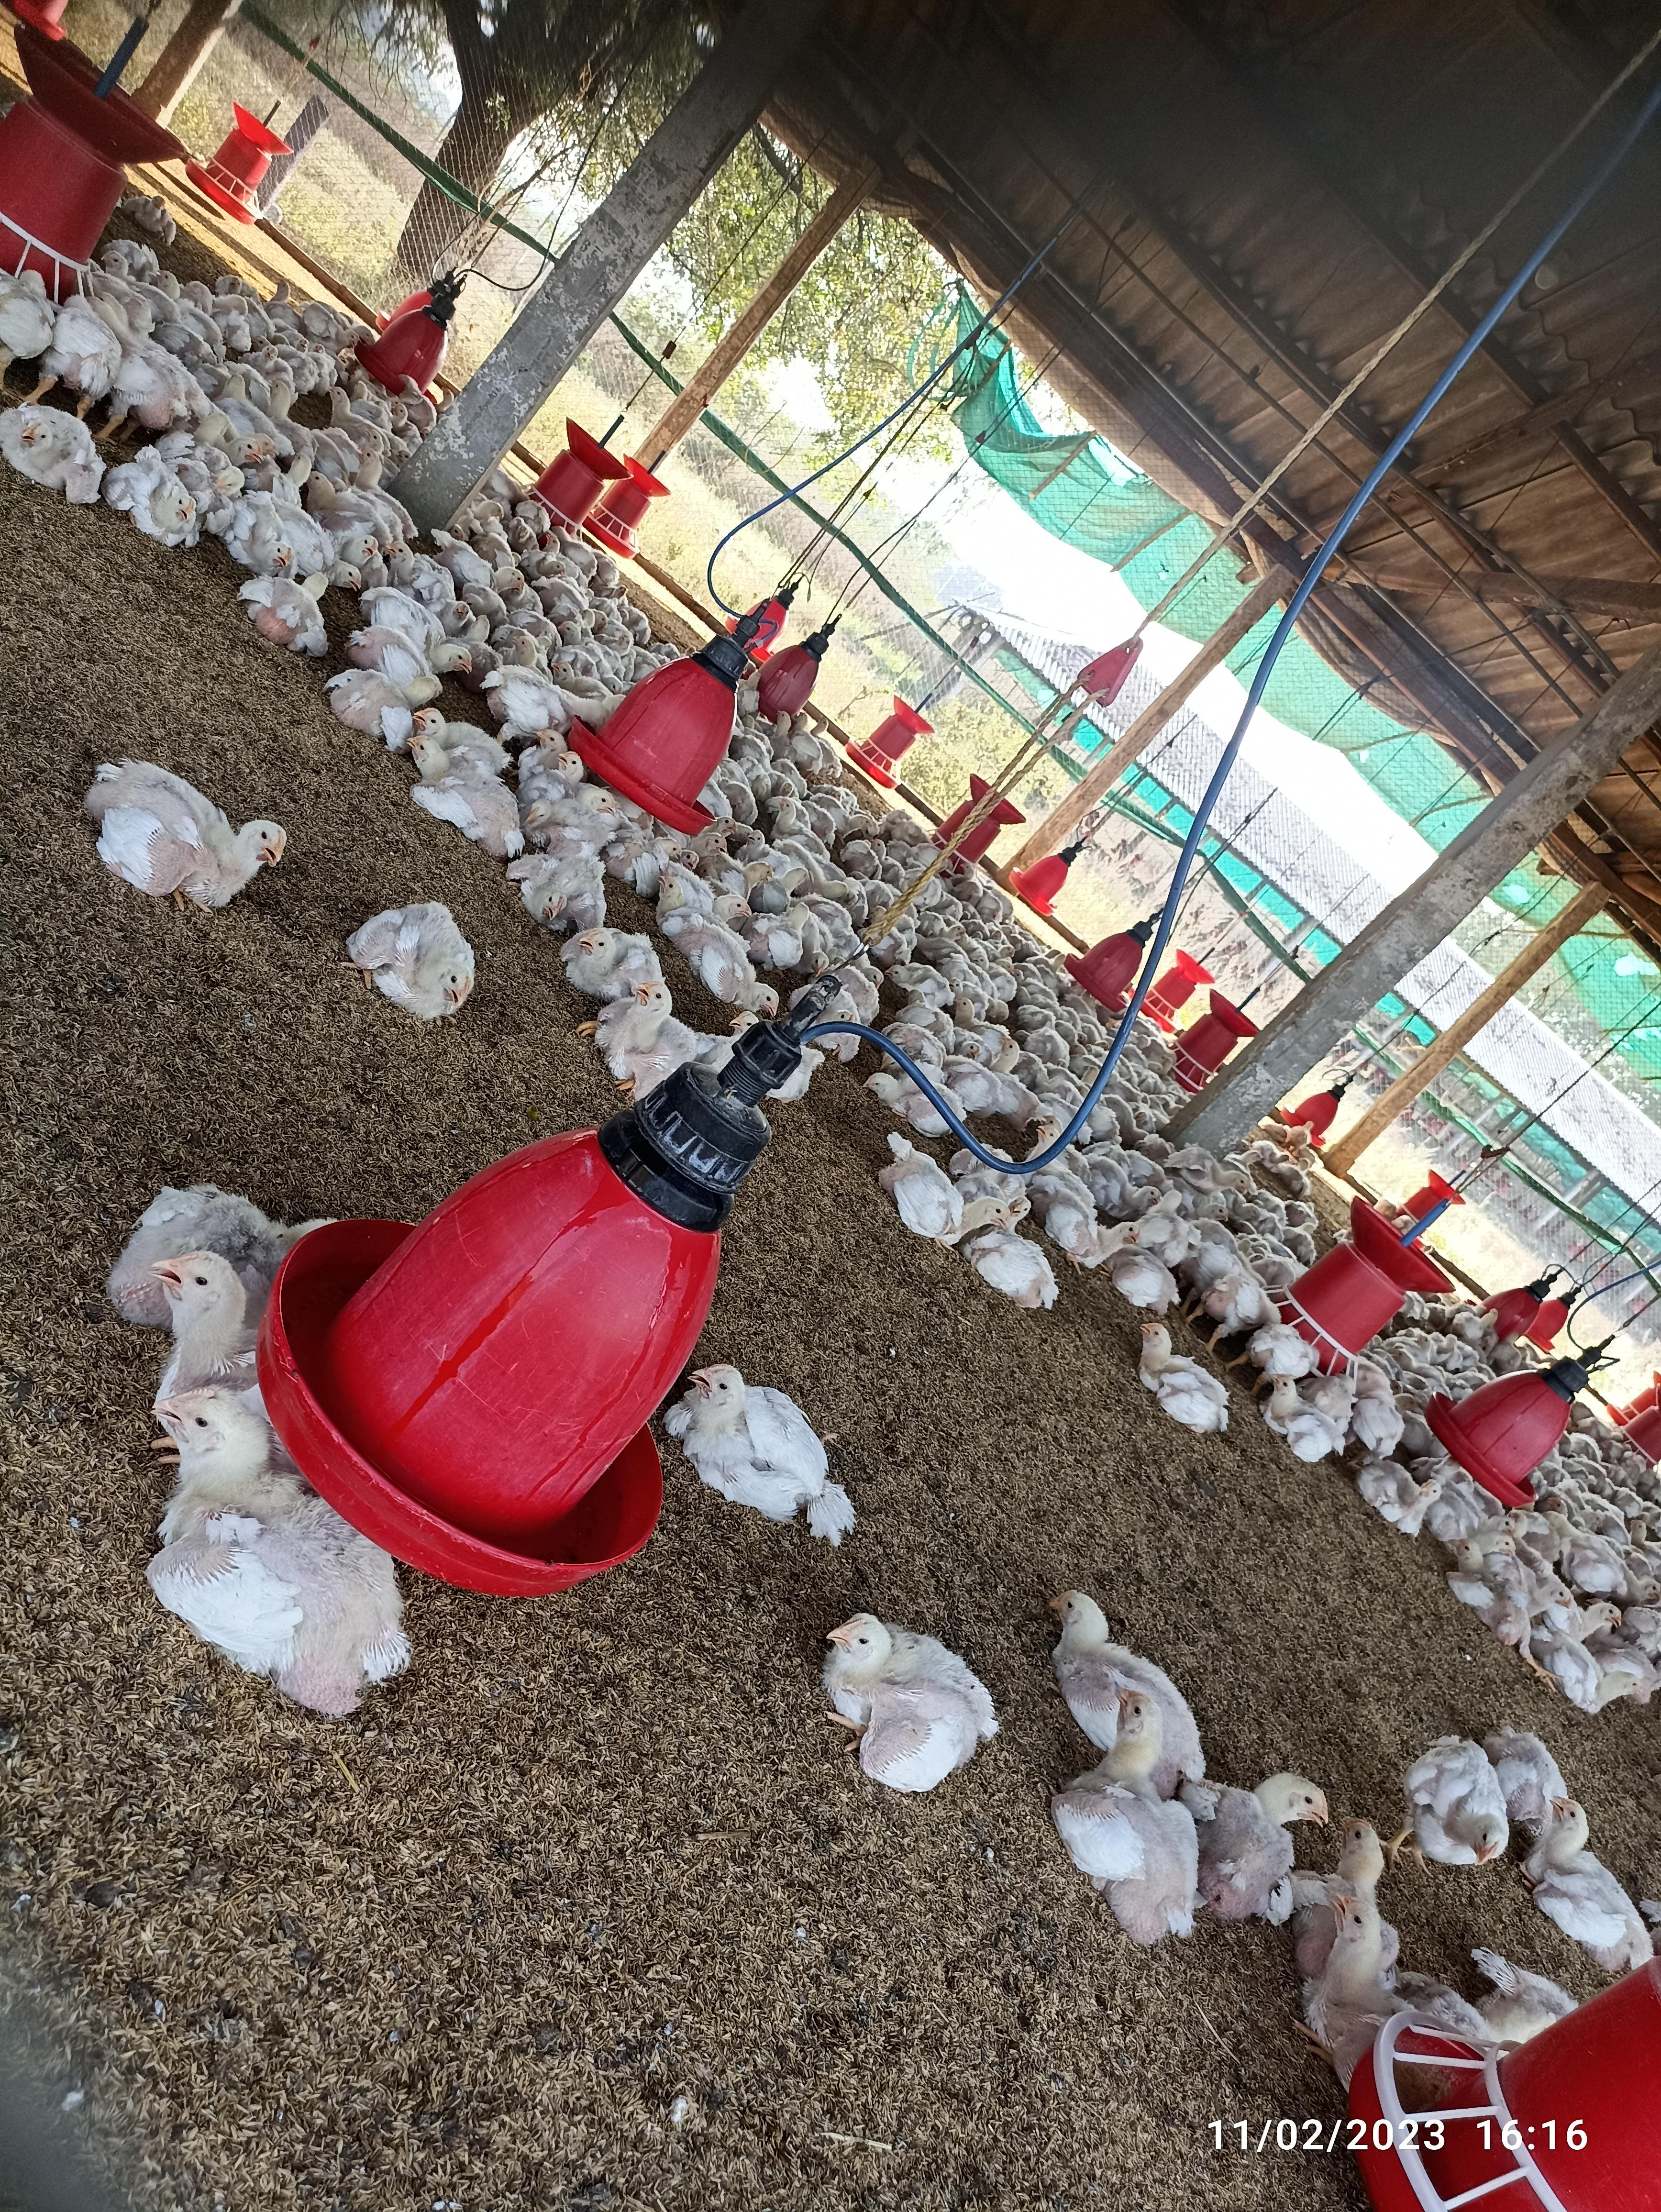Pollos: (136, 1389, 407, 1727), (1050, 1676, 1209, 1952), (801, 1598, 996, 1790), (689, 1352, 865, 1537), (85, 762, 288, 907), (1195, 1771, 1342, 1915), (1398, 1720, 1506, 1895), (400, 708, 525, 850), (349, 897, 487, 1015), (1125, 1319, 1230, 1446), (234, 553, 349, 661), (1530, 1619, 1658, 1717), (1354, 1450, 1462, 1540), (684, 912, 776, 1015), (9, 384, 89, 499), (605, 972, 689, 1080), (558, 907, 660, 994), (113, 455, 201, 553), (974, 1228, 1061, 1305), (883, 1150, 963, 1228), (523, 855, 612, 925), (1270, 1362, 1328, 1460), (1075, 1209, 1129, 1266)
